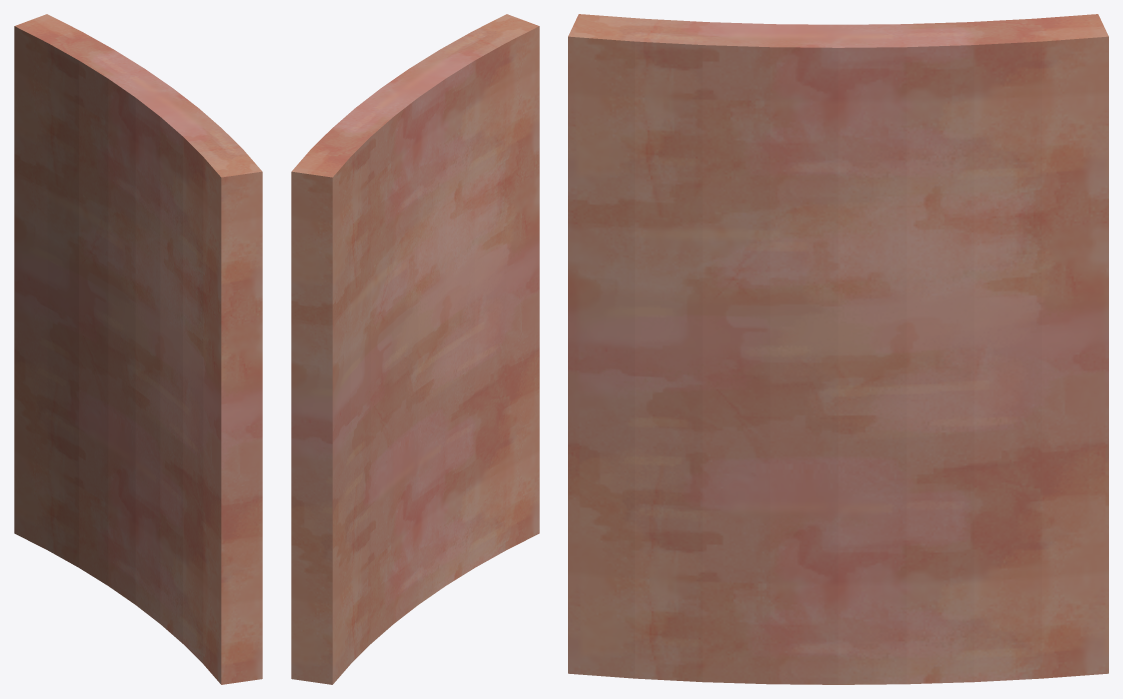
The model's file is wall_middle.fbx.
3 views of the same model, side by side, from view 1: azimuth 30°, elevation 25°; view 2: azimuth 150°, elevation 25°; view 3: azimuth 270°, elevation 25° (orthographic). The views are drawn at different scales.
Parts seen in each view (by area): view 1: sep8.007; view 2: sep8.007; view 3: sep8.007.
Boxes of the visible parts, bbox=[...] form: sep8.007: bbox=[14, 14, 262, 684]; sep8.007: bbox=[291, 14, 539, 684]; sep8.007: bbox=[568, 14, 1108, 684].
Bounding box in the file's own units: 628 × 5500 × 4231.
